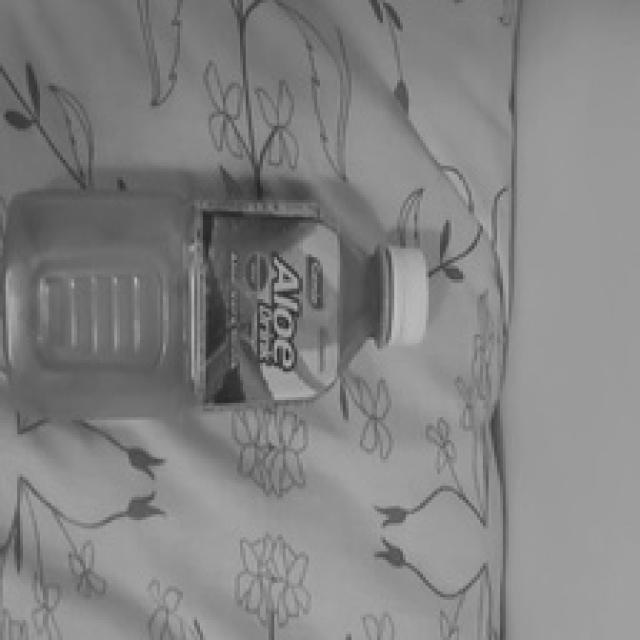bottle: (0, 200, 440, 410)
